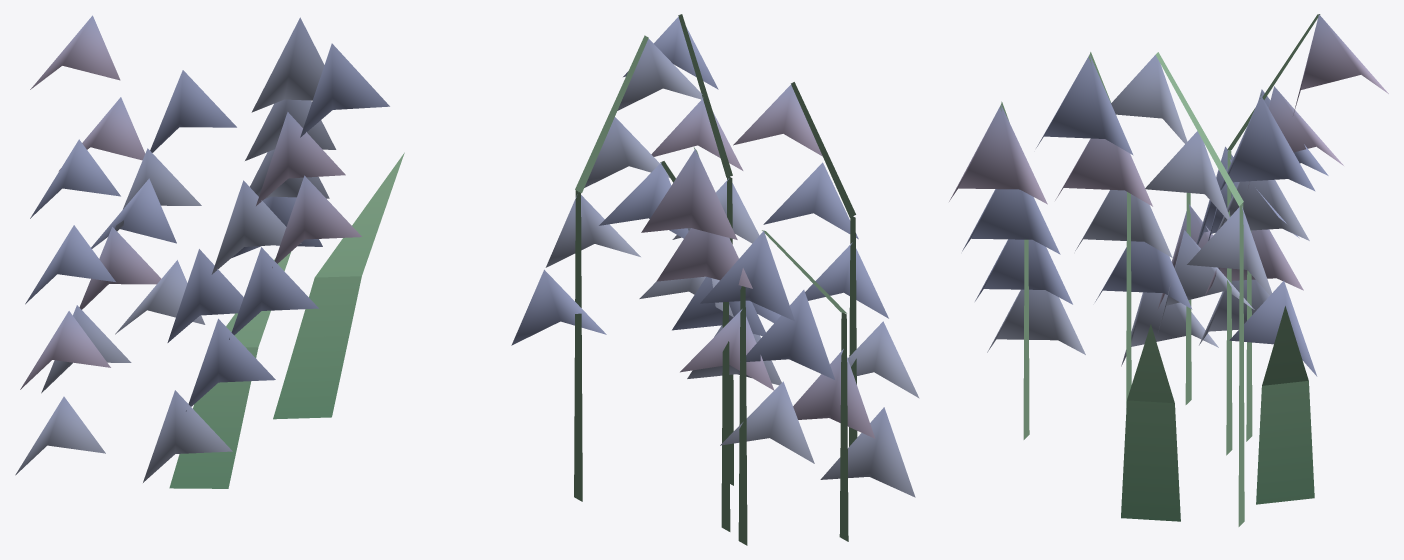
Rendered from bluebell.glb.
3 views of the same model, side by side, from view 1: azimuth 30°, elevation 25°; view 2: azimuth 150°, elevation 25°; view 3: azimuth 270°, elevation 25° (orthographic). The views are drawn at different scales.
Parts seen in each view (by area): view 1: near, far; view 2: near, far; view 3: near, far.
Part boxes in pixels (x1=…): near: x1=15, y1=15, x2=404, y2=488; far: x1=167, y1=17, x2=389, y2=342; near: x1=599, y1=82, x2=919, y2=545; far: x1=511, y1=14, x2=780, y2=501; near: x1=949, y1=14, x2=1388, y2=521; far: x1=1036, y1=52, x2=1317, y2=526.
Bounding box in the file's own units: 0.3271 × 0.3329 × 0.2911.
